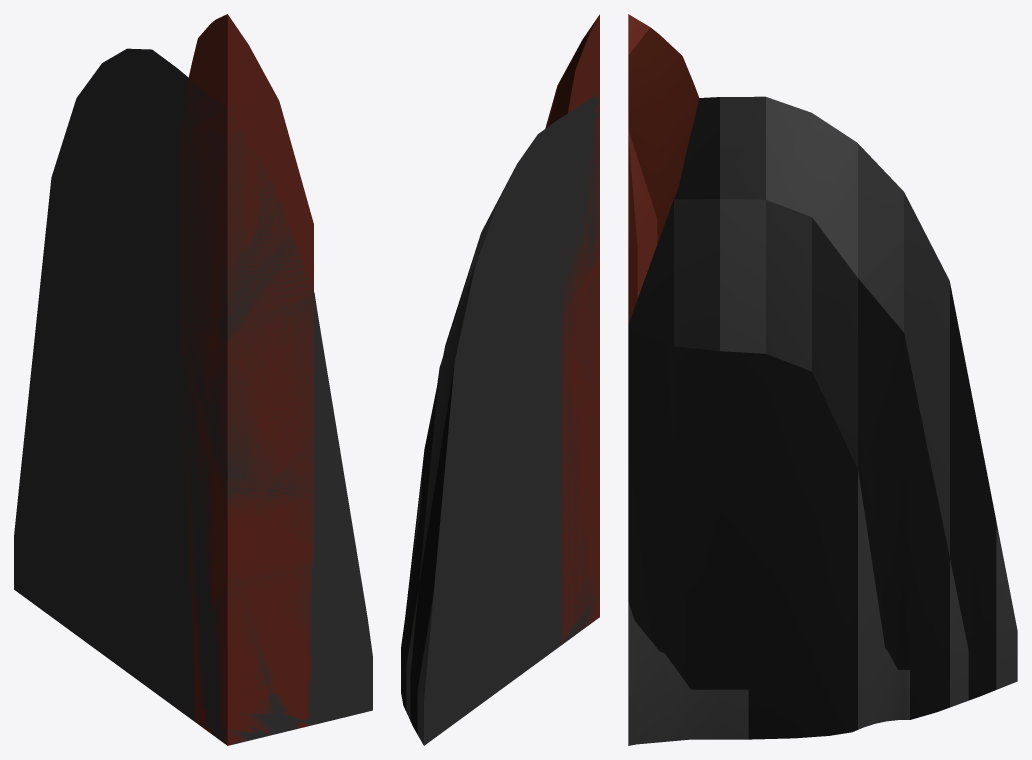
Rendered from dome_head_32.glb.
3 renders of one model, left to right at view 1: azimuth 30°, elevation 25°; view 2: azimuth 150°, elevation 25°; view 3: azimuth 270°, elevation 25°, orthographic. The views are drawn at different scales.
Parts seen in each view (by area): view 1: dome_head_32_hshell, dome_head_32_hbrow_r; view 2: dome_head_32_hshell, dome_head_32_hbrow_r; view 3: dome_head_32_hshell, dome_head_32_hbrow_r.
Part boxes in pixels (<box>): dome_head_32_hshell: <box>14,48,372,744</box>; dome_head_32_hbrow_r: <box>181,14,313,745</box>; dome_head_32_hshell: <box>401,95,599,745</box>; dome_head_32_hbrow_r: <box>545,14,599,642</box>; dome_head_32_hshell: <box>628,96,1017,745</box>; dome_head_32_hbrow_r: <box>628,14,699,323</box>.
Size of the model in its own units: 3.32 by 15.99 by 8.46.
